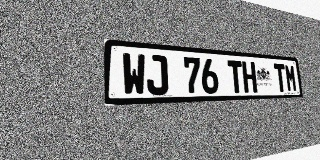6: (200, 58, 219, 94)
7: (182, 57, 202, 94)
H: (242, 61, 257, 93)
J: (146, 54, 168, 95)
M: (284, 64, 297, 92)
T: (227, 60, 244, 93), (274, 63, 287, 92)
W: (122, 53, 146, 96)
